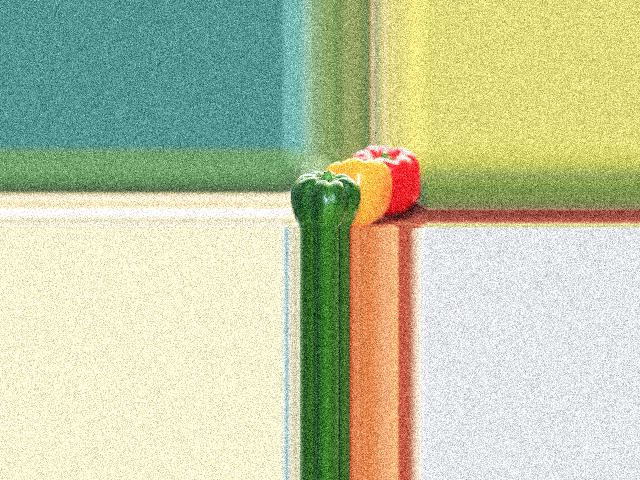bell_pepper: (352, 145, 419, 224)
